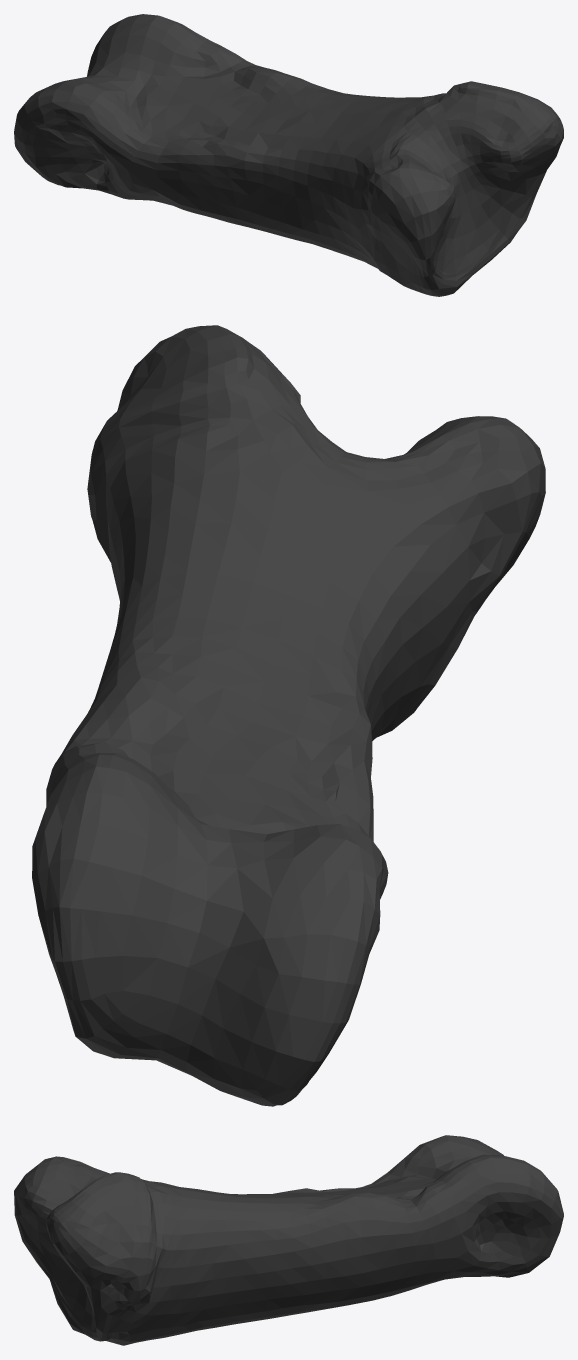
File: Proximal_phalange_3.glb
3 views of the same model, one above another, from view 1: azimuth 30°, elevation 25°; view 2: azimuth 150°, elevation 25°; view 3: azimuth 270°, elevation 25° (orthographic). The views are drawn at different scales.
Parts seen in each view (by area): view 1: Proximal_phalange_3; view 2: Proximal_phalange_3; view 3: Proximal_phalange_3.
Part boxes in pixels (x1,y1,x2,y2): Proximal_phalange_3: (14, 14, 563, 296); Proximal_phalange_3: (32, 325, 545, 1106); Proximal_phalange_3: (14, 1135, 563, 1345).
Bounding box in the file's own units: 0.258 × 0.1445 × 0.3859.
1 material, 1 textured.
